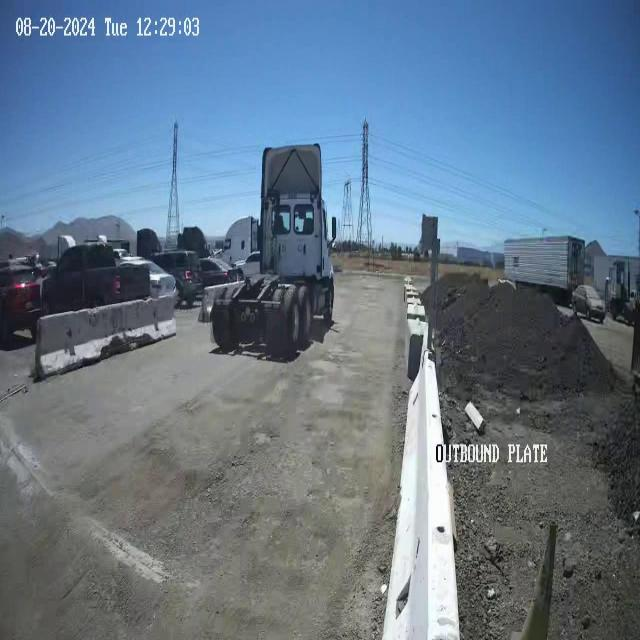BOBTAIL: (207, 142, 337, 358)
